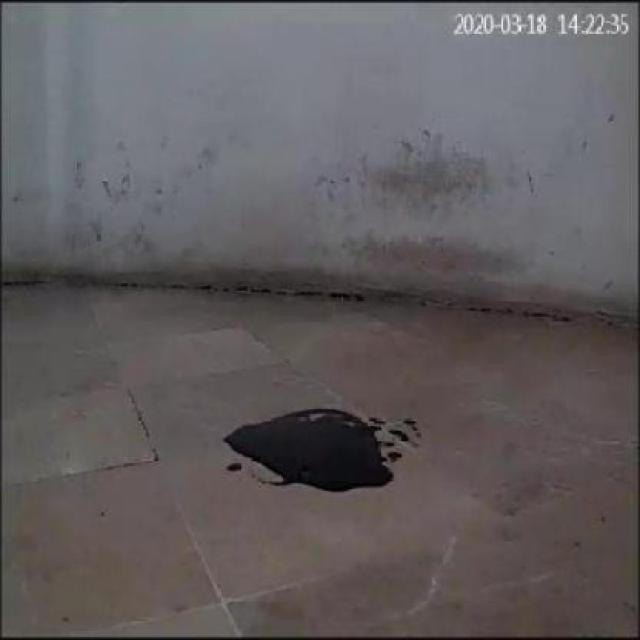spillage: (217, 407, 430, 505)
